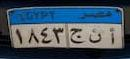1: (14, 27, 24, 47)
3: (52, 26, 64, 44)
4: (40, 26, 51, 44)
8: (27, 27, 39, 45)
alif: (107, 26, 116, 46)
jeem: (70, 27, 86, 46)
noon: (88, 28, 102, 46)
